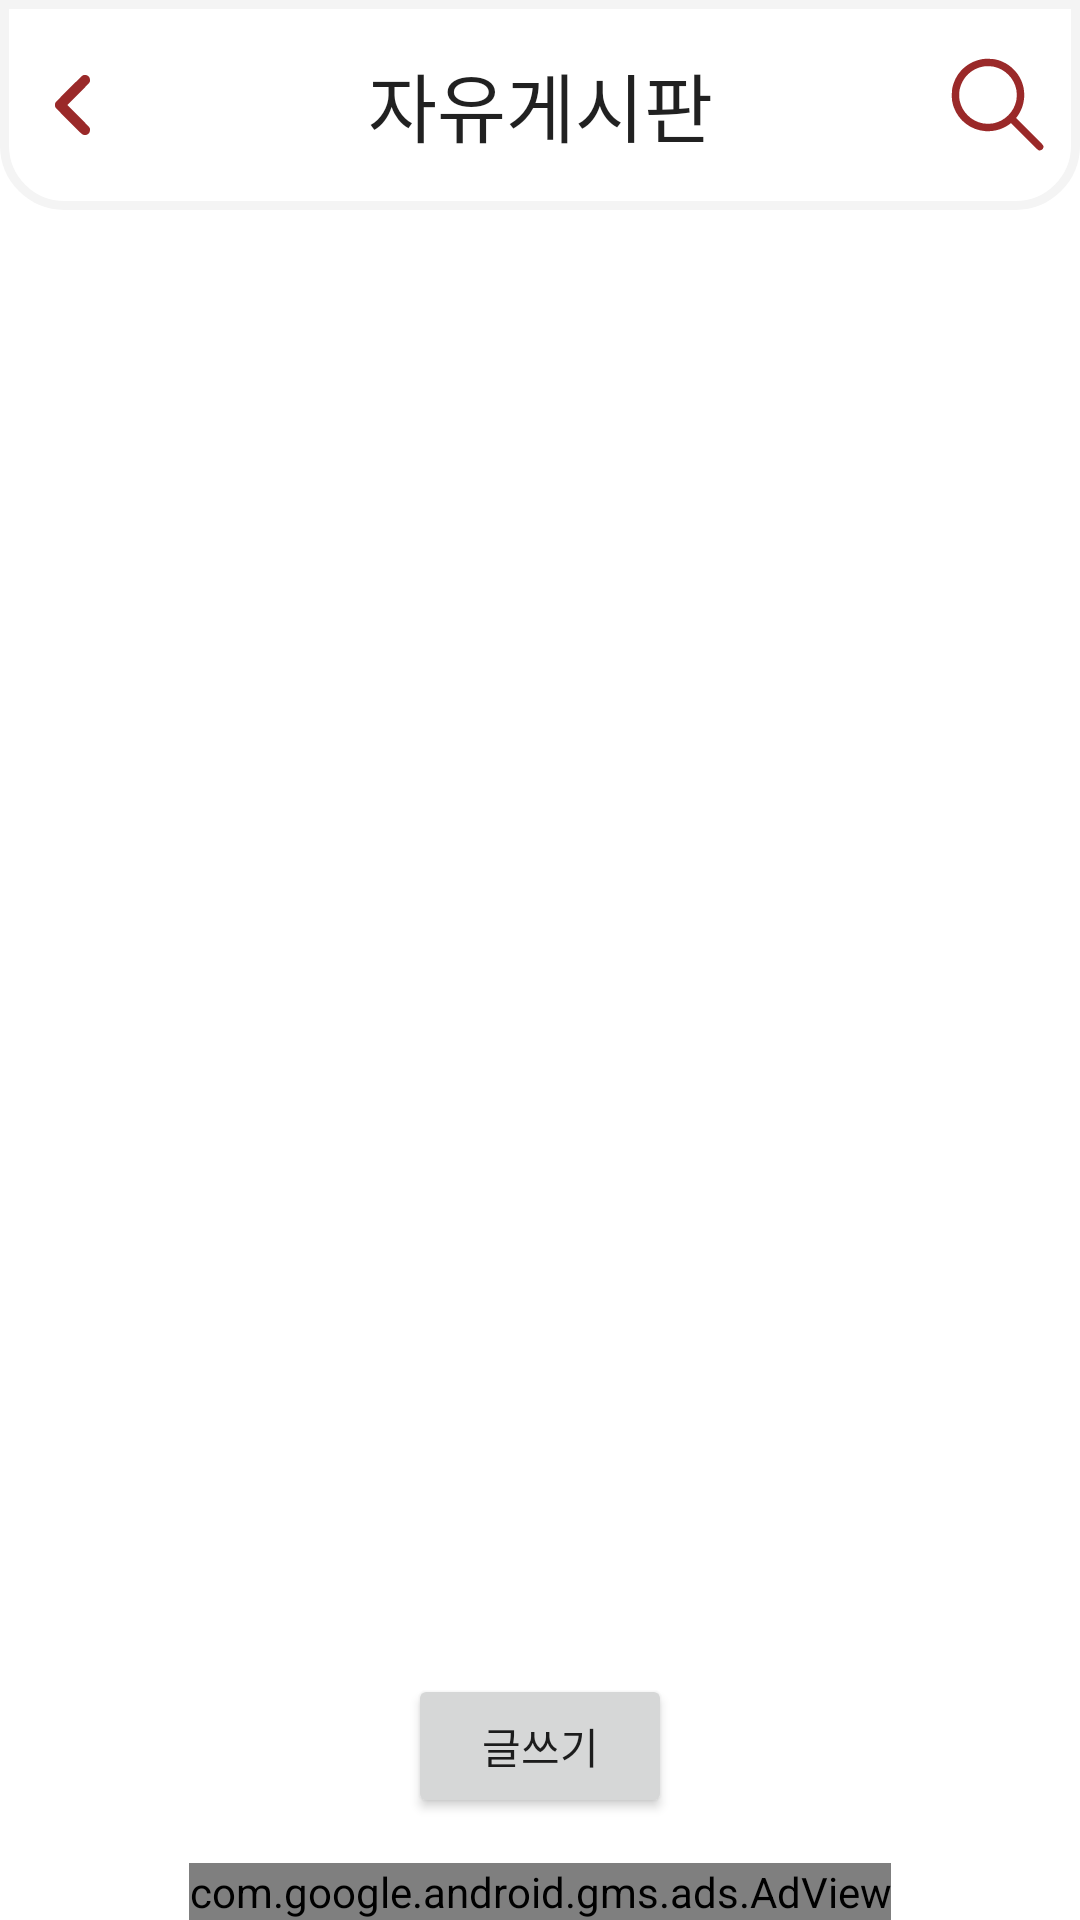

Icons on this 1080×1920 Android screen, each with the point to tap as (x=x, y=y):
before: (x=72, y=105)
search: (x=997, y=104)
